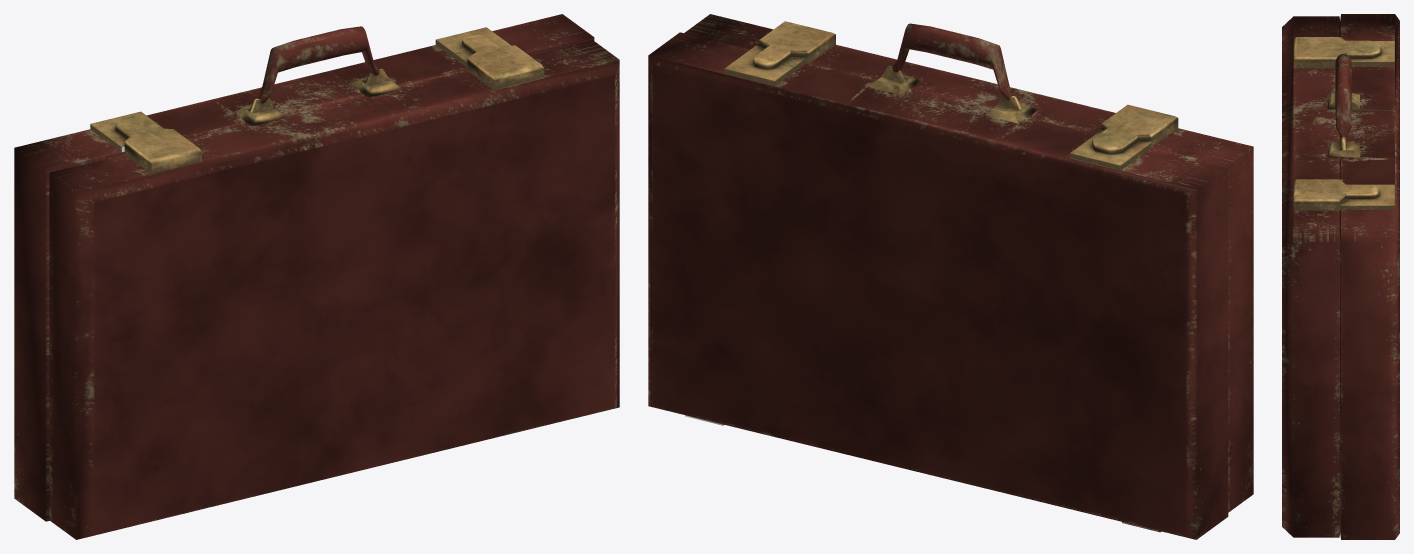
Rendered from bag.fbx.
The picture shows the model from 3 angles, left to right: view 1: azimuth 30°, elevation 25°; view 2: azimuth 150°, elevation 25°; view 3: azimuth 270°, elevation 25°; orthographic projection. The views are drawn at different scales.
Parts seen in each view (by area): view 1: Cylinder; view 2: Cylinder; view 3: Cylinder.
Part boxes in pixels (x1=…): Cylinder: x1=14, y1=14, x2=619, y2=539; Cylinder: x1=648, y1=14, x2=1253, y2=539; Cylinder: x1=1282, y1=14, x2=1399, y2=539.
Bounding box in the file's own units: 45.18 × 33.25 × 9.89.
